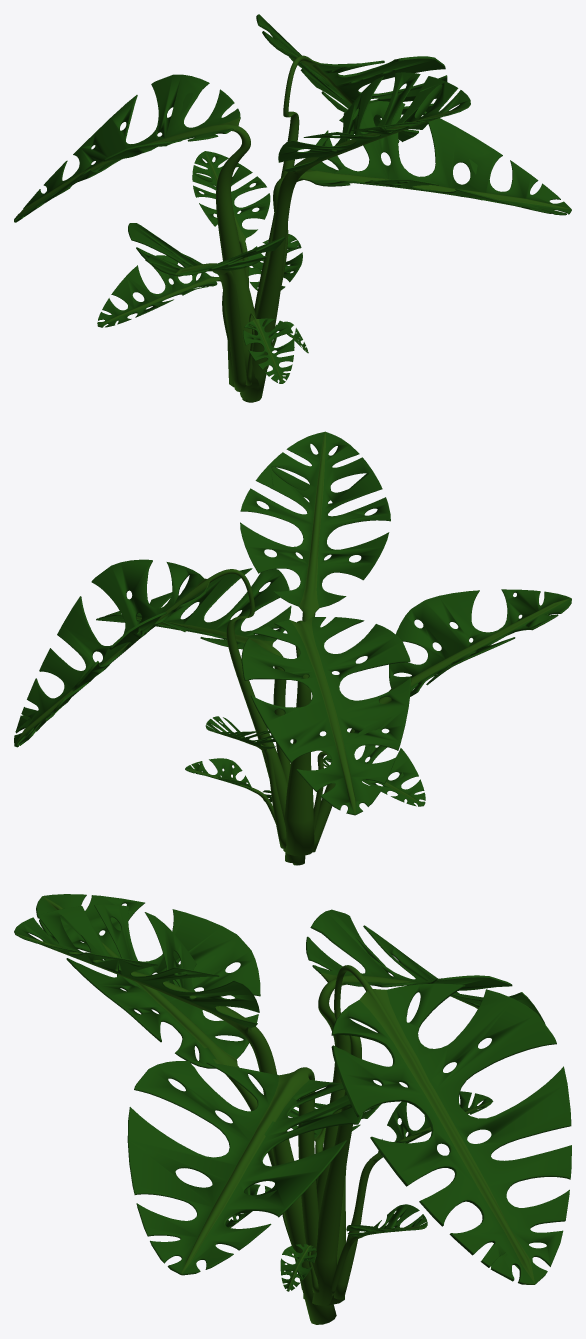
File: Monstera.fbx
3 renders of one model, top to bottom at view 1: azimuth 30°, elevation 25°; view 2: azimuth 150°, elevation 25°; view 3: azimuth 270°, elevation 25°, orthographic. The views are drawn at different scales.
Visible parts, largest first — view 1: Monstera_3.002; view 2: Monstera_3.002; view 3: Monstera_3.002.
Part boxes in pixels (<box>): Monstera_3.002: <box>14,14,571,402</box>; Monstera_3.002: <box>14,431,571,865</box>; Monstera_3.002: <box>14,894,571,1324</box>.
Bounding box in the file's own units: 84.83 × 63.88 × 72.77.
